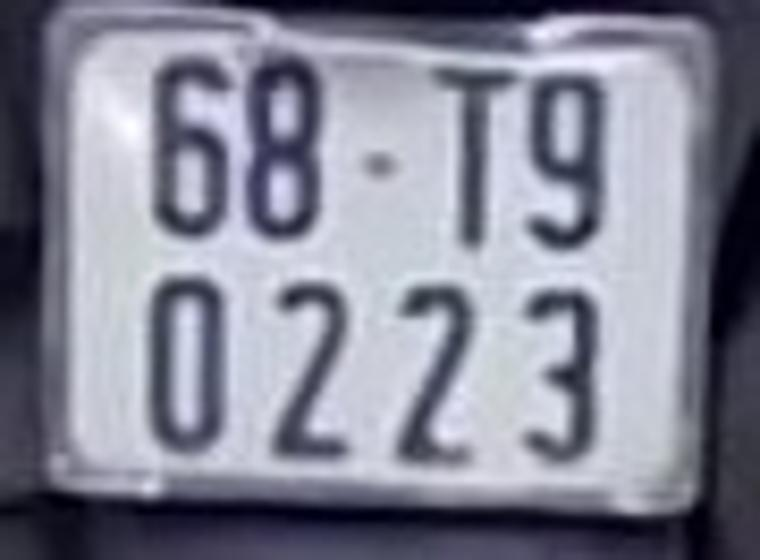0: (147, 269, 234, 454)
2: (389, 278, 486, 474), (268, 278, 358, 464)
3: (521, 281, 603, 465)
6: (148, 55, 232, 237)
8: (250, 54, 327, 242), (354, 149, 404, 182)
9: (519, 69, 611, 264)
T: (428, 56, 520, 252)
